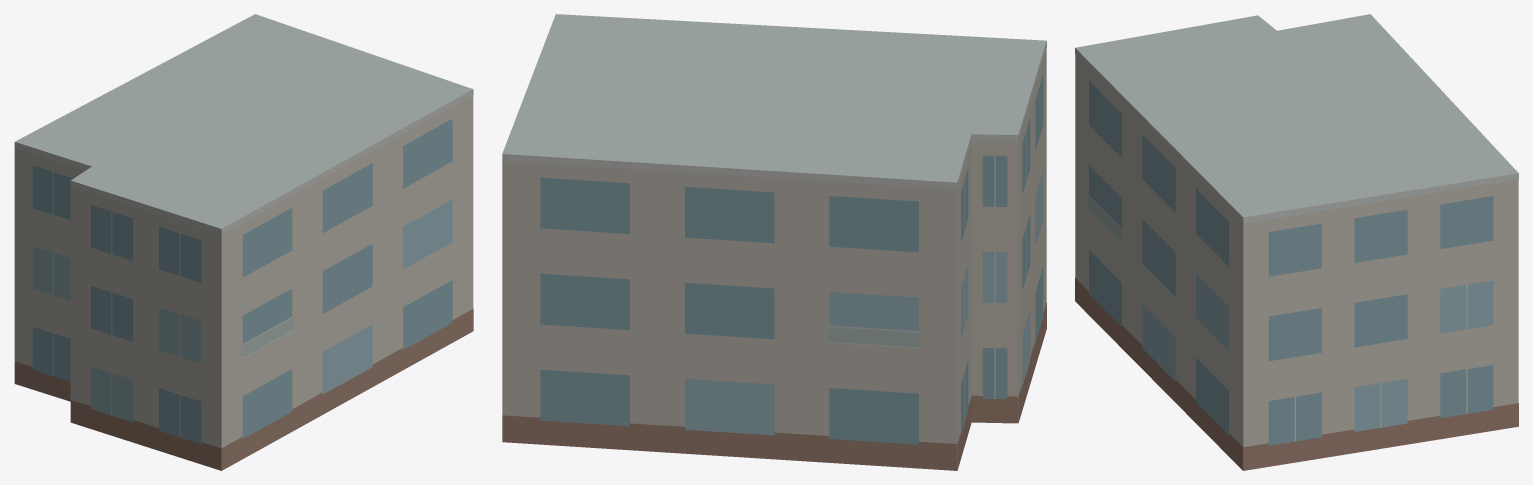
Rendered from survey-upis-33019795.glb.
The picture shows the model from 3 angles, left to right: view 1: azimuth 30°, elevation 25°; view 2: azimuth 150°, elevation 25°; view 3: azimuth 270°, elevation 25°; orthographic projection. The views are drawn at different scales.
Parts seen in each view (by area): view 1: survey-upis-33019795.tmp; view 2: survey-upis-33019795.tmp; view 3: survey-upis-33019795.tmp.
Boxes of the visible parts, box(x1,y1,x2,y2) form: survey-upis-33019795.tmp: box(14, 14, 473, 470); survey-upis-33019795.tmp: box(502, 14, 1046, 470); survey-upis-33019795.tmp: box(1075, 14, 1518, 470).
Size of the model in its own units: 17.57 by 10.2 by 16.19.
